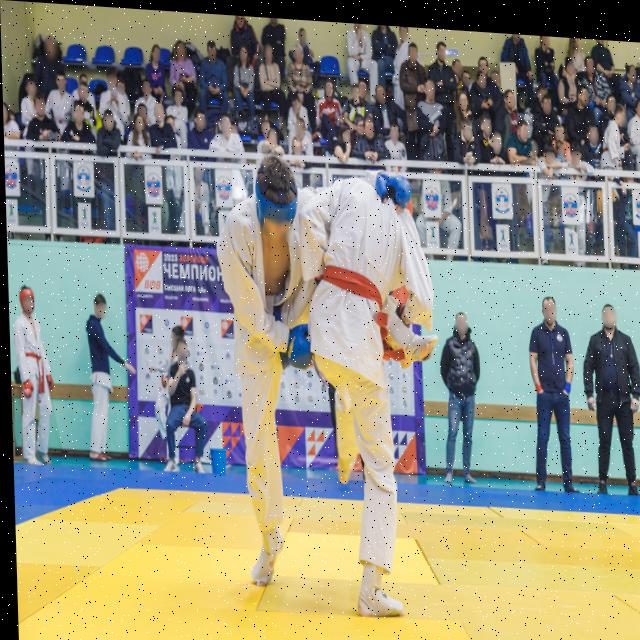Person: (577, 286, 640, 498), (524, 287, 583, 497), (62, 259, 120, 460), (427, 296, 487, 482), (7, 281, 57, 470), (165, 332, 208, 478), (415, 67, 446, 157), (430, 31, 454, 143), (256, 39, 289, 117), (495, 26, 533, 84), (199, 35, 229, 105), (604, 95, 632, 168), (232, 39, 257, 119), (399, 33, 425, 104), (57, 98, 91, 150), (168, 34, 196, 94), (453, 112, 480, 171), (25, 93, 57, 142), (94, 107, 121, 165), (580, 47, 604, 110), (287, 38, 312, 98), (316, 70, 344, 121), (38, 31, 60, 95), (586, 31, 619, 72), (150, 99, 174, 155), (531, 28, 556, 80), (260, 14, 287, 60), (626, 84, 640, 171), (506, 113, 531, 159), (343, 71, 367, 118), (170, 85, 189, 144), (103, 66, 126, 114), (230, 12, 258, 49), (360, 111, 383, 156), (559, 46, 579, 97), (189, 102, 211, 148), (475, 64, 496, 111), (620, 54, 639, 105), (584, 117, 604, 165), (19, 79, 41, 122), (129, 111, 150, 156), (214, 109, 238, 148), (52, 70, 71, 118), (374, 78, 393, 125), (392, 21, 409, 73), (535, 85, 556, 126), (386, 117, 406, 160), (149, 32, 165, 85), (567, 134, 588, 174), (482, 122, 507, 155), (334, 118, 354, 158), (137, 69, 155, 112), (259, 120, 282, 153), (540, 134, 558, 168), (566, 30, 585, 61), (75, 78, 96, 106), (448, 49, 464, 85), (286, 88, 306, 116), (476, 109, 493, 141), (573, 76, 588, 111), (501, 81, 518, 111), (293, 112, 311, 140), (456, 79, 470, 113), (554, 132, 569, 163), (476, 50, 489, 77), (490, 58, 502, 87), (289, 132, 305, 153), (259, 115, 272, 138), (461, 60, 473, 84), (116, 76, 128, 97), (137, 101, 150, 120), (554, 118, 568, 135)
